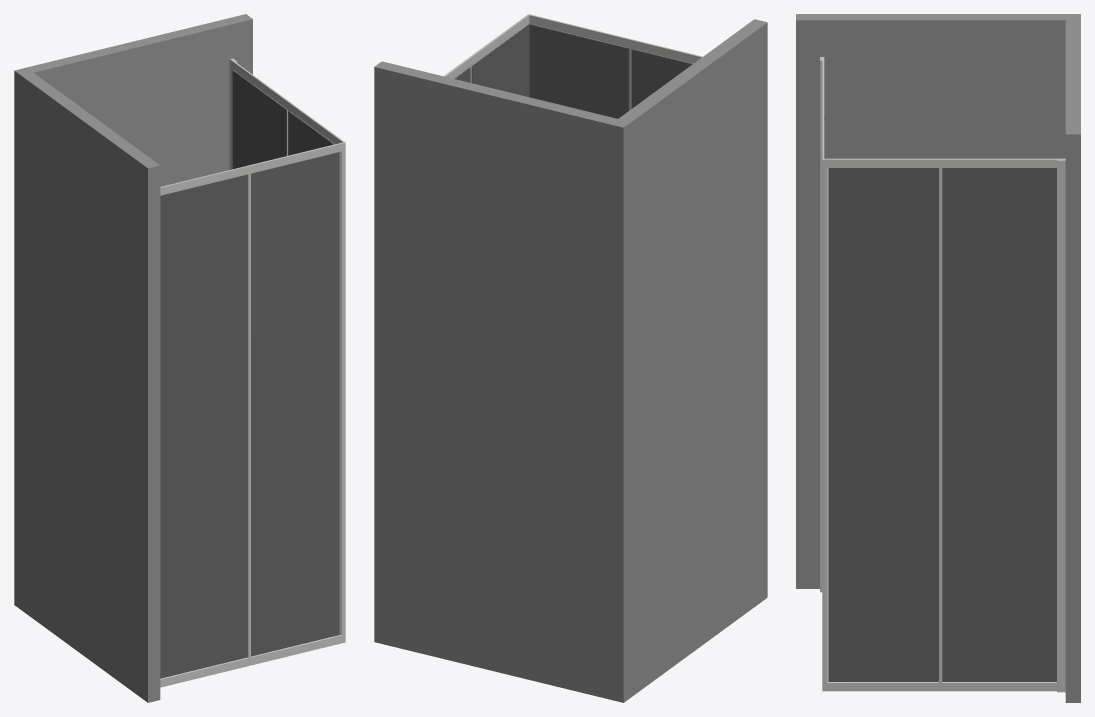
The model's file is Shower_enclosures_013.gltf.
The picture shows the model from 3 angles, left to right: view 1: azimuth 30°, elevation 25°; view 2: azimuth 150°, elevation 25°; view 3: azimuth 270°, elevation 25°; orthographic projection. The views are drawn at different scales.
Parts seen in each view (by area): view 1: Shower_enclosures_013; view 2: Shower_enclosures_013; view 3: Shower_enclosures_013.
Part boxes in pixels (x1,y1,x2,y2): Shower_enclosures_013: (14, 14, 345, 702); Shower_enclosures_013: (374, 14, 767, 702); Shower_enclosures_013: (796, 14, 1080, 702).
Size of the model in its own units: 0.9081 by 2 by 0.9081.
2 materials, 2 textured.
